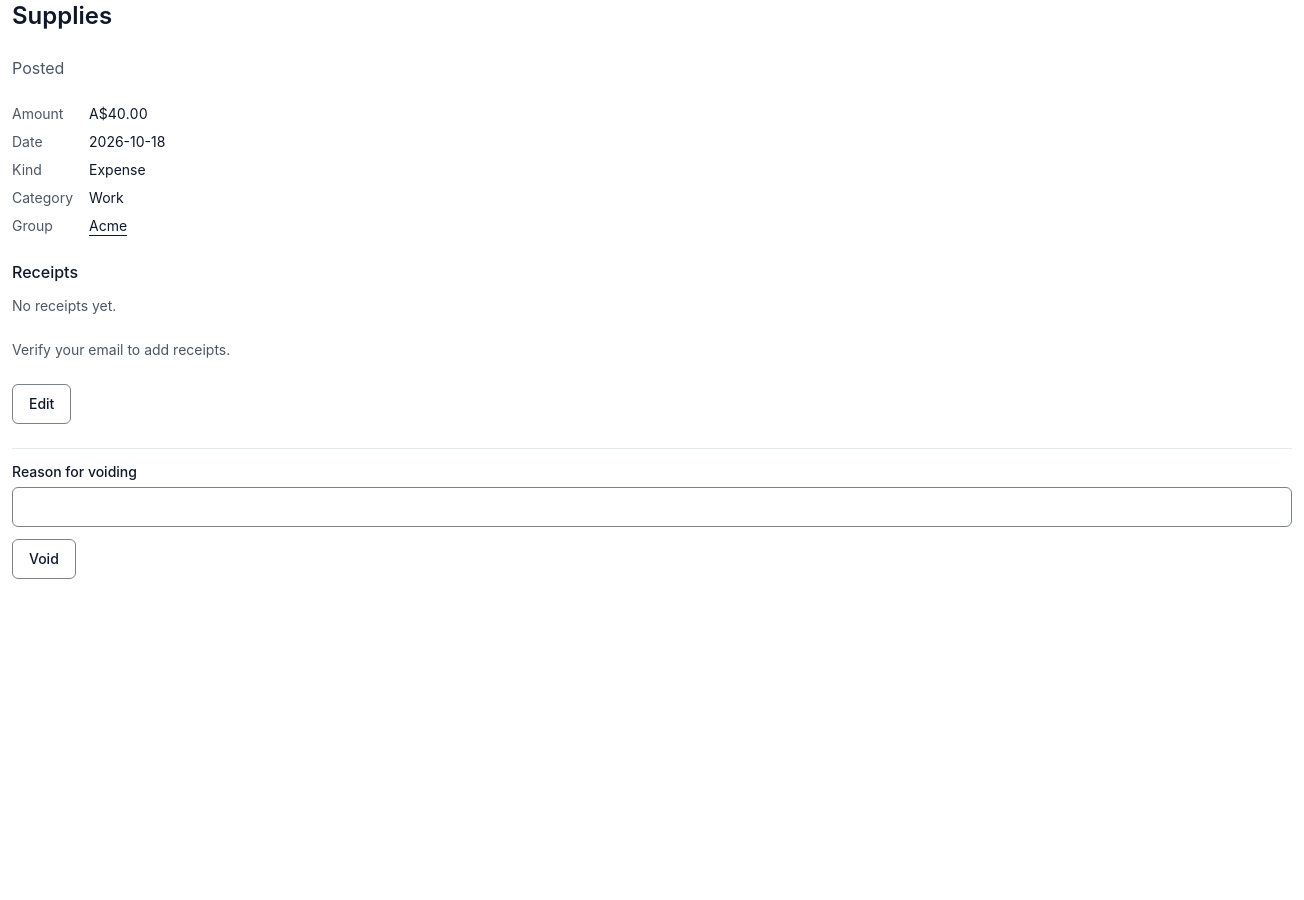
Scenario: TransactionPage, an employer entry › closes on Cancel with nothing sent, and focus back on Edit
This screenshot has width=1304, height=900.
Click the button "Edit". click: click(42, 404)
box: x1=12 y1=384 x2=71 y2=424
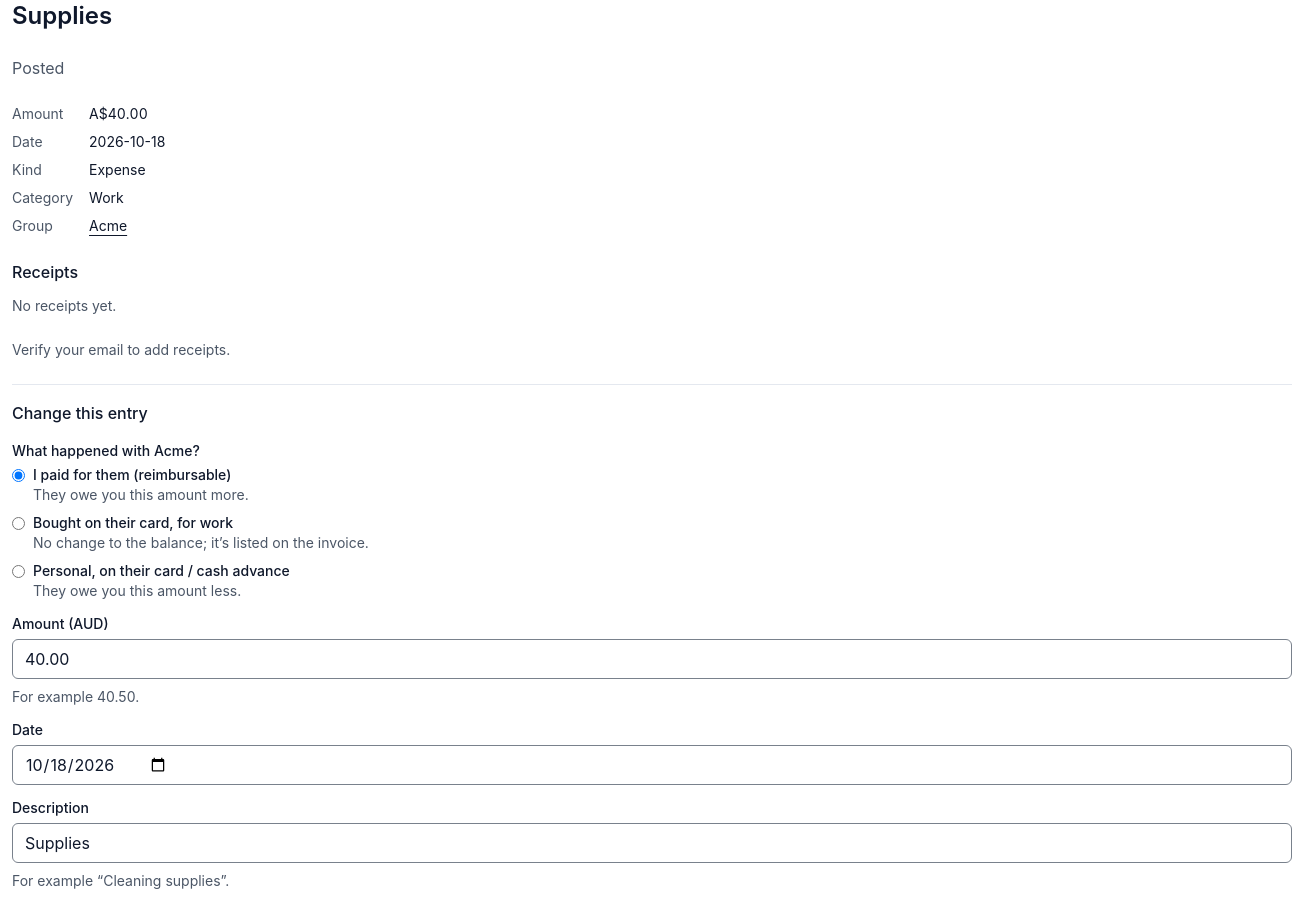
Check: the label "void" is gone
Replace the text in the field labelled "Amount (AUD)" with "1". click: (652, 659)
box: x1=12 y1=639 x2=1292 y2=679
(page scrolled)
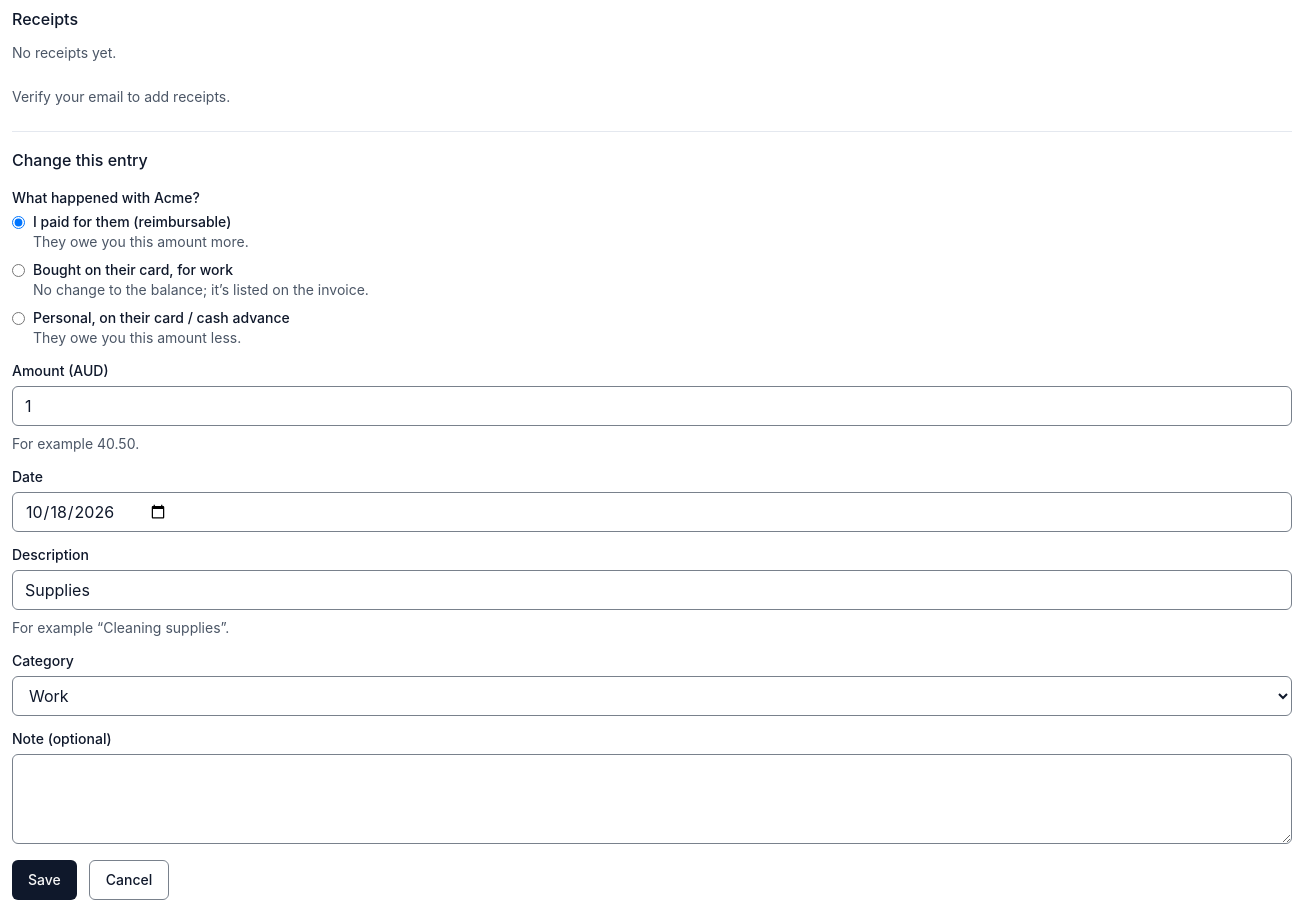
Click the button "Cancel". click: click(129, 880)
box: x1=89 y1=860 x2=169 y2=899
(page scrolled)
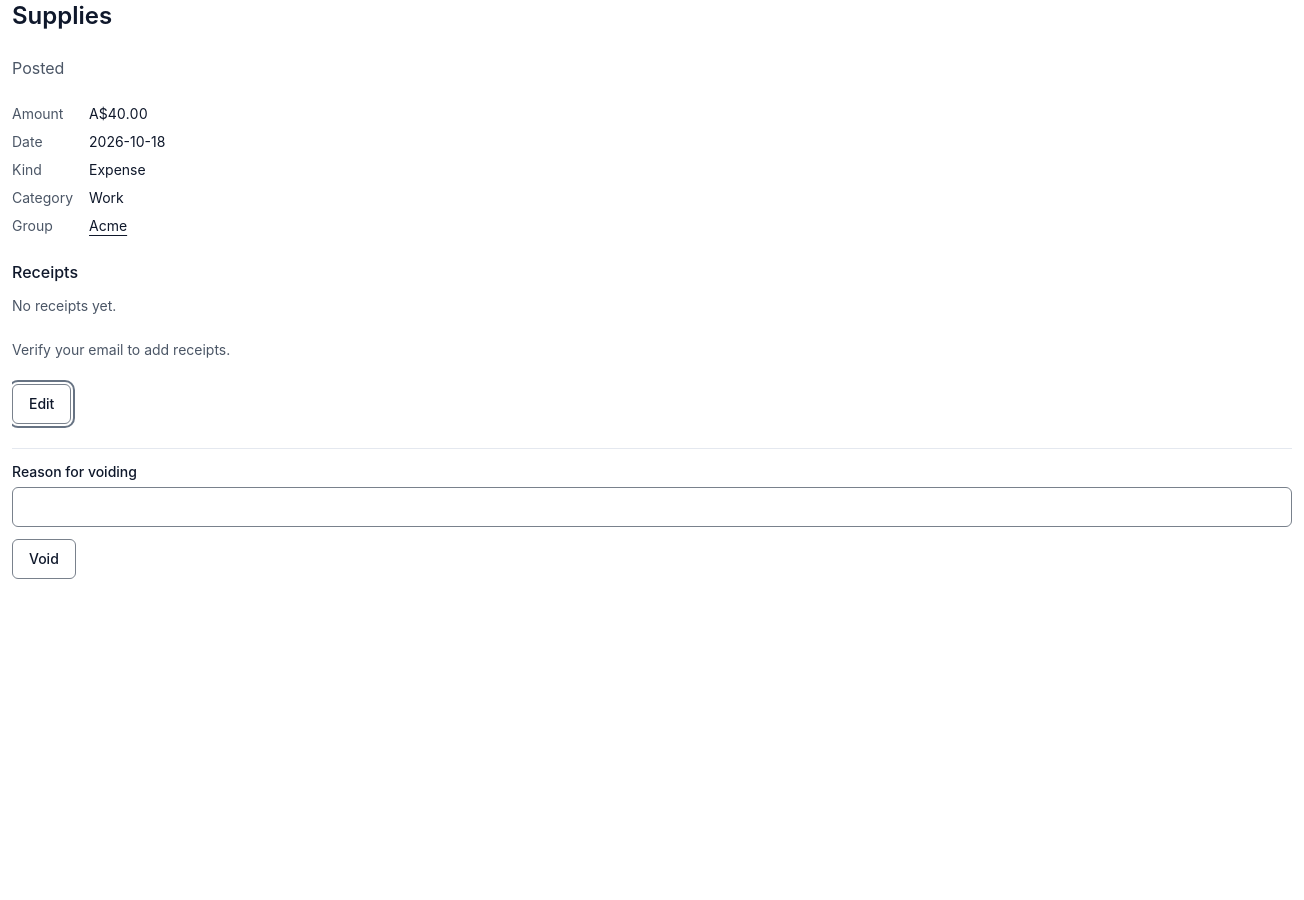
Check: the heading "Change this entry" is gone
Check: the button "Void" is shown, box x1=12 y1=539 x2=76 y2=579
Check: the button "Edit" is shown
Click the button "Edit". click: click(42, 404)
box: x1=12 y1=384 x2=71 y2=424
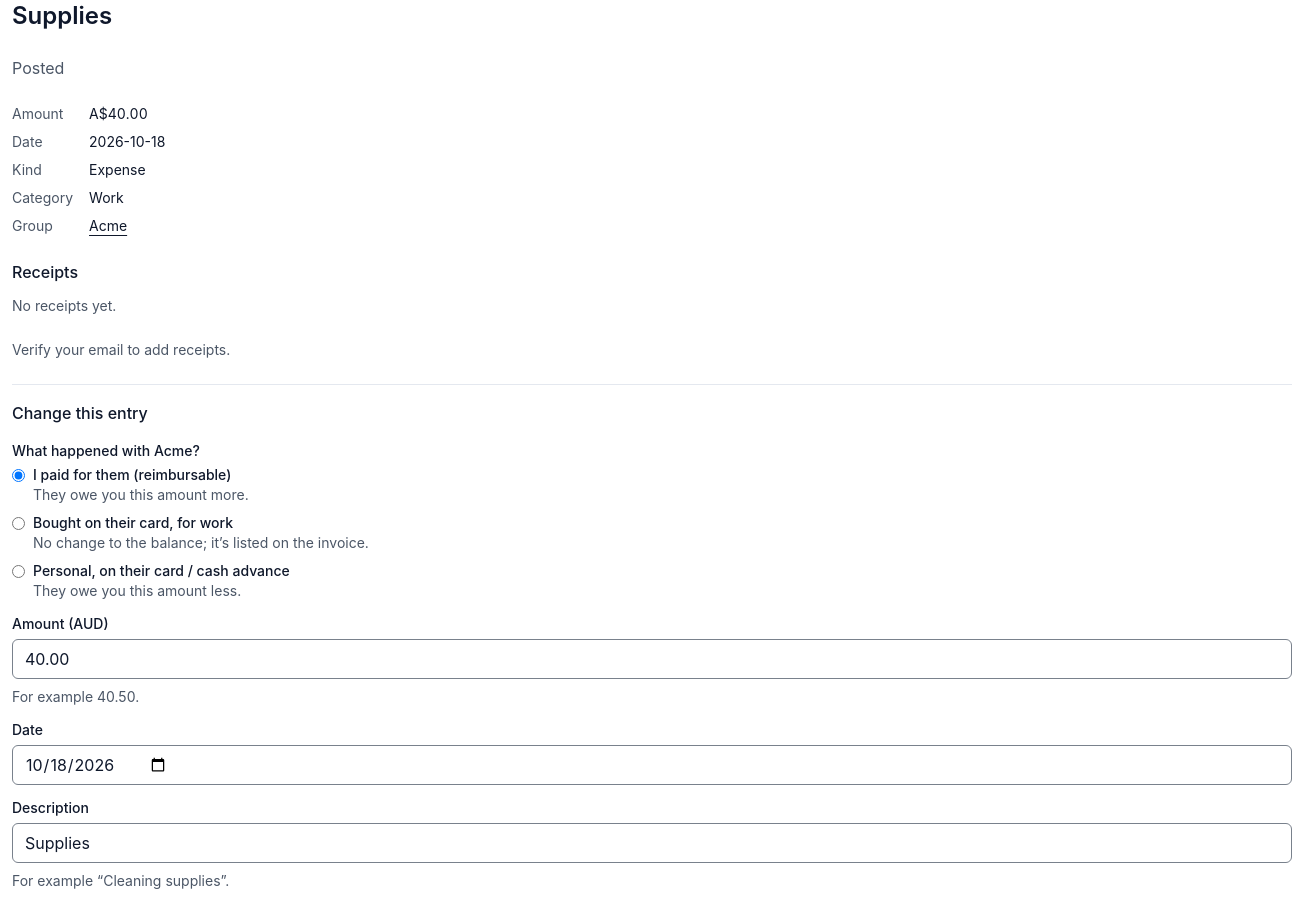
Check: the field labelled "Amount (AUD)" holds "40.00", box x1=12 y1=639 x2=1292 y2=679
